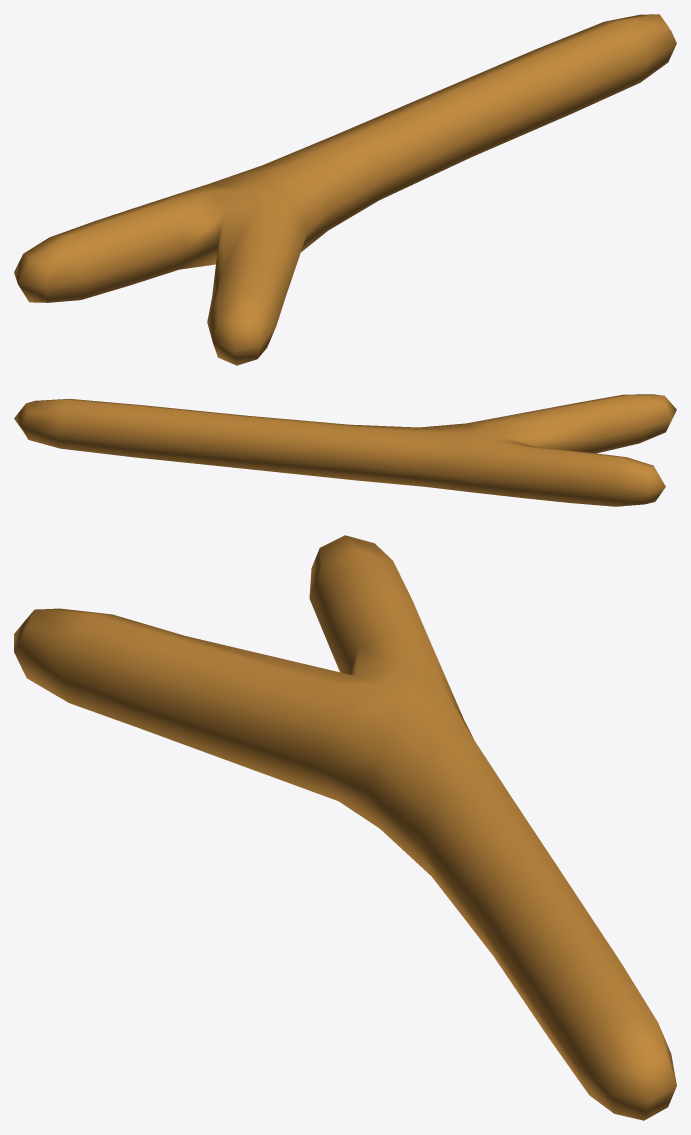
The model's file is StickV1.fbx.
3 renders of one model, top to bottom at view 1: azimuth 30°, elevation 25°; view 2: azimuth 150°, elevation 25°; view 3: azimuth 270°, elevation 25°, orthographic. The views are drawn at different scales.
Parts seen in each view (by area): view 1: StickV1; view 2: StickV1; view 3: StickV1.
Boxes of the visible parts, x1=… form: StickV1: x1=14, y1=14, x2=676, y2=365; StickV1: x1=14, y1=394, x2=676, y2=506; StickV1: x1=14, y1=535, x2=676, y2=1120.
Bounding box in the file's own units: 33.19 × 3.15 × 17.74.
